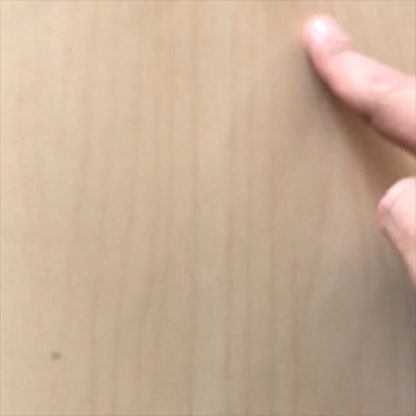fingertip: (297, 9, 359, 71)
